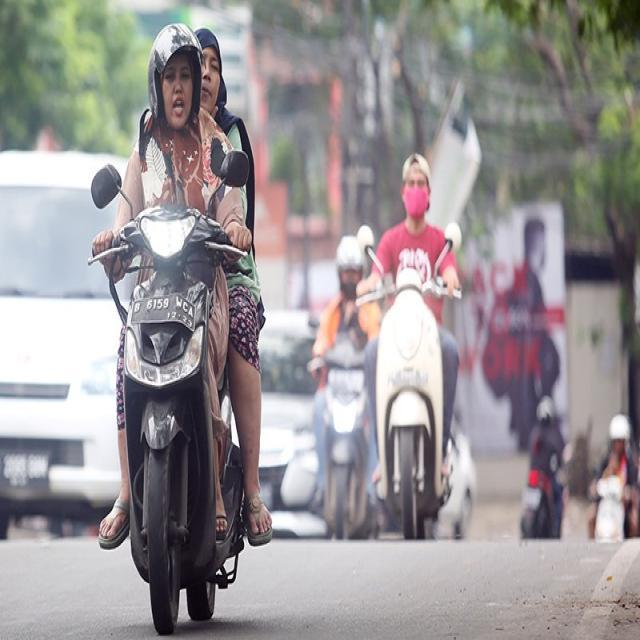Helmet: (148, 23, 201, 118), (336, 235, 364, 271), (402, 153, 430, 184), (609, 414, 630, 440), (536, 396, 554, 423)
Number Plate: (131, 294, 194, 329), (0, 450, 48, 487), (522, 487, 541, 509)
Rearview Mirror: (91, 164, 121, 208), (220, 150, 249, 186), (356, 225, 374, 254), (445, 222, 461, 251)
